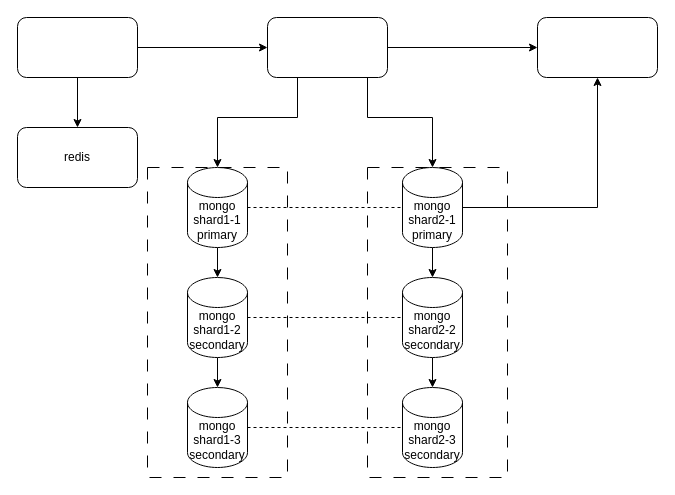
Image size: 675x495. Some labels were removed from this diagram. The centre of each missing label's shape, as x and y in pixels:
"mongo config" belongs at (597,47).
"mongo router" belongs at (327,47).
"pymongo-api" belongs at (77,47).
